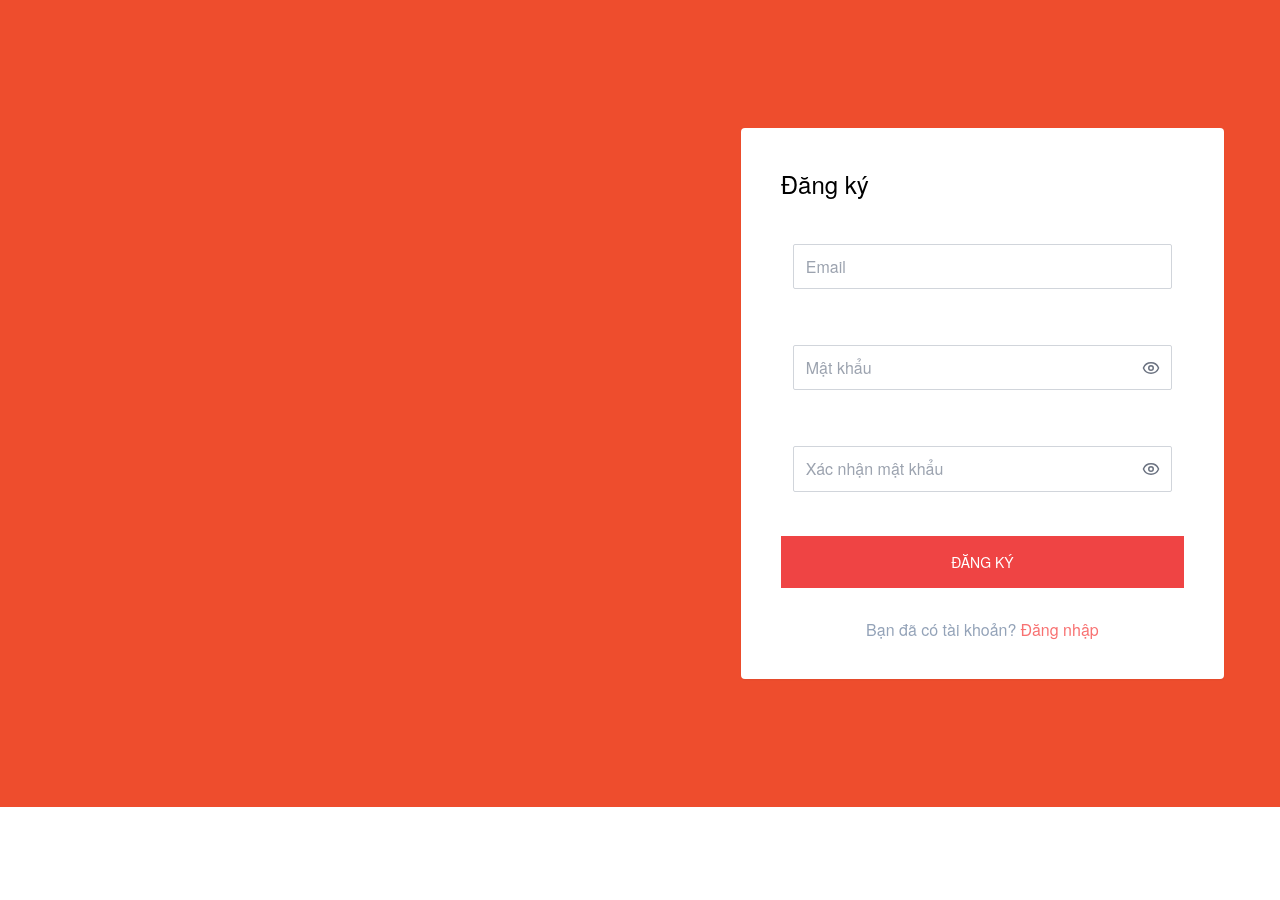
Scenario: Register page › shows error when confirm_password does not match
Step 1. Type "test@example.com" into the field with placeholder "Email" → (982, 267), box [793,244,1172,289]
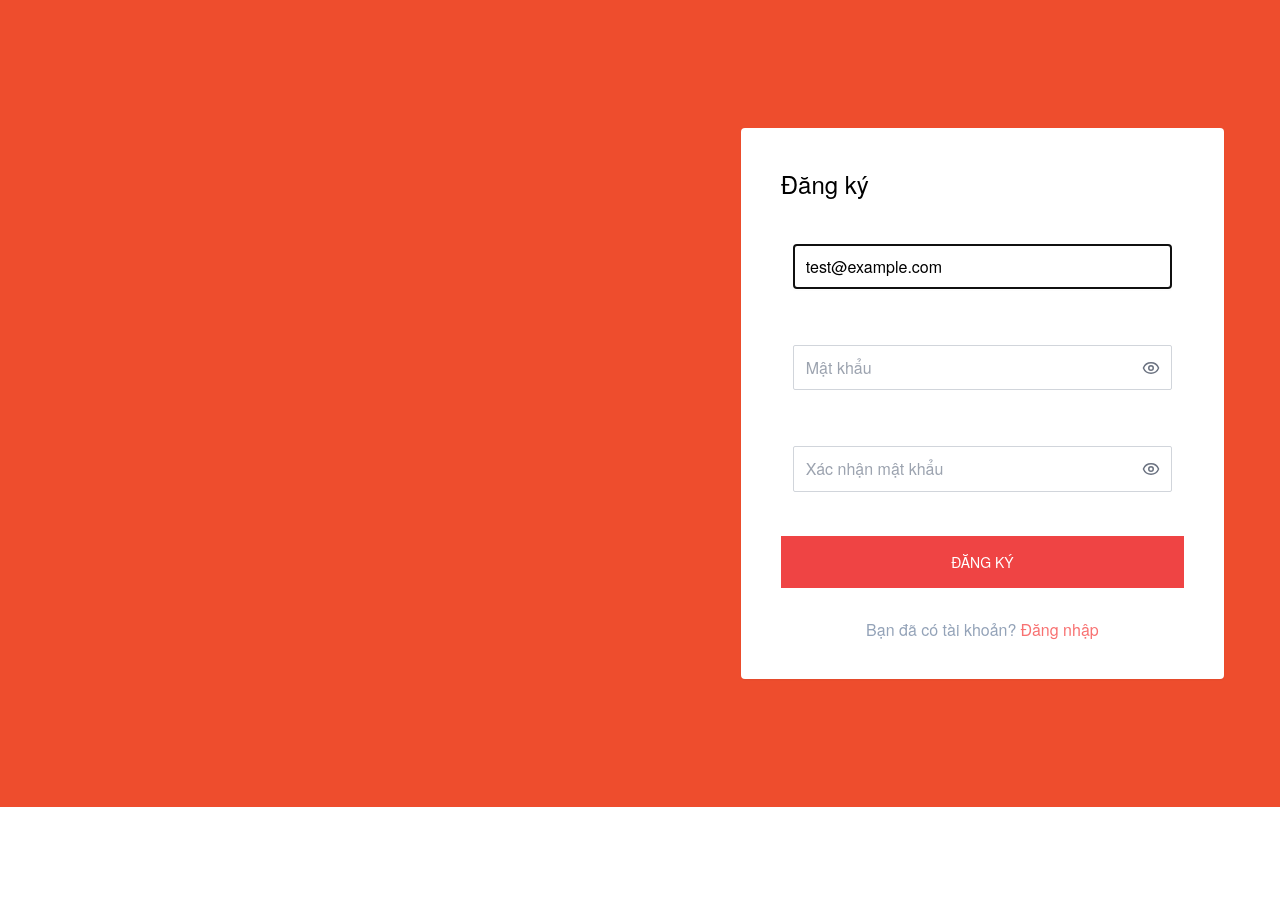
Step 2. Type "password123" into the password field with placeholder "Mật khẩu" → (982, 368), box [793,345,1172,390]
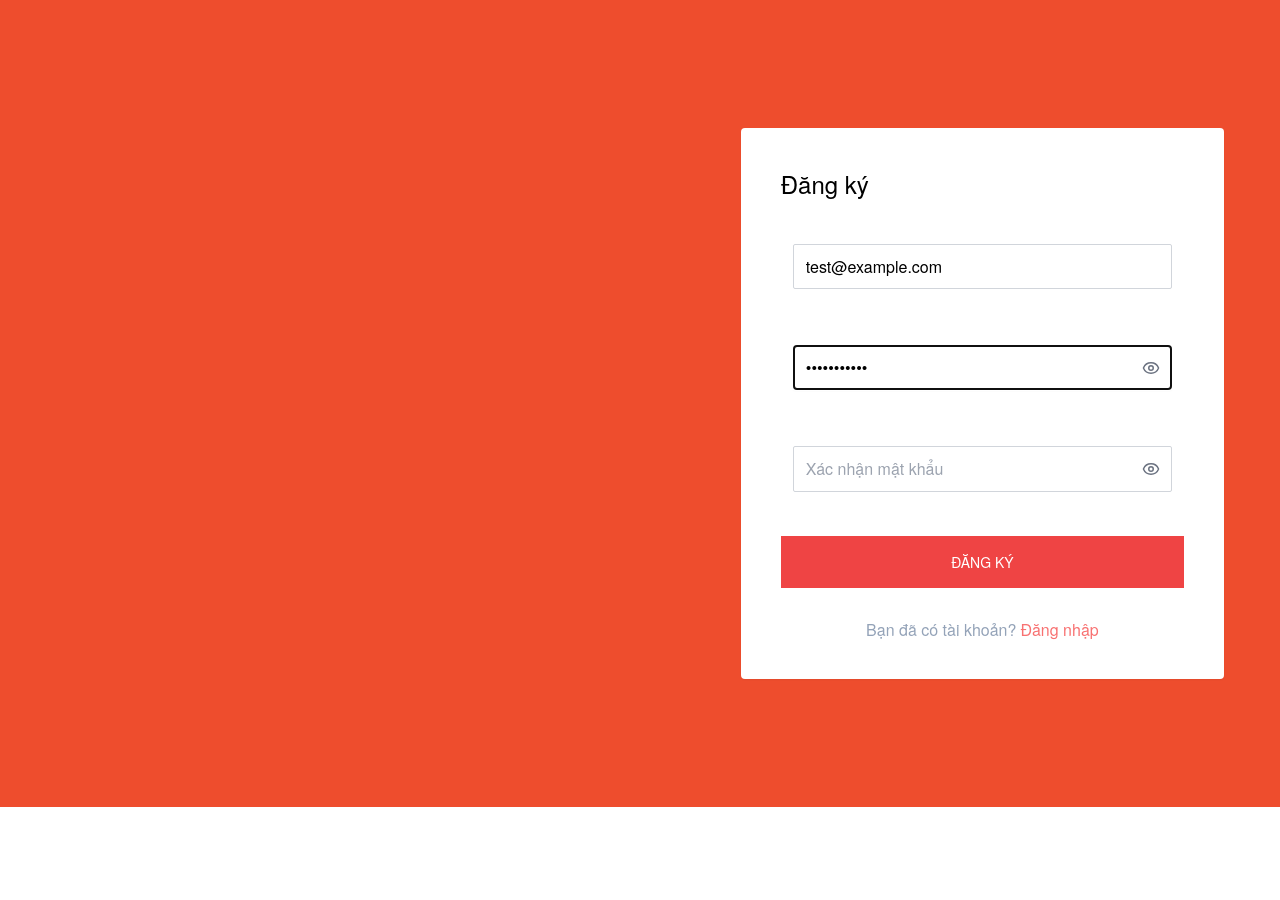
Step 3. Type "different123" into the password field with placeholder "Xác nhận mật khẩu" → (982, 469), box [793,446,1172,492]
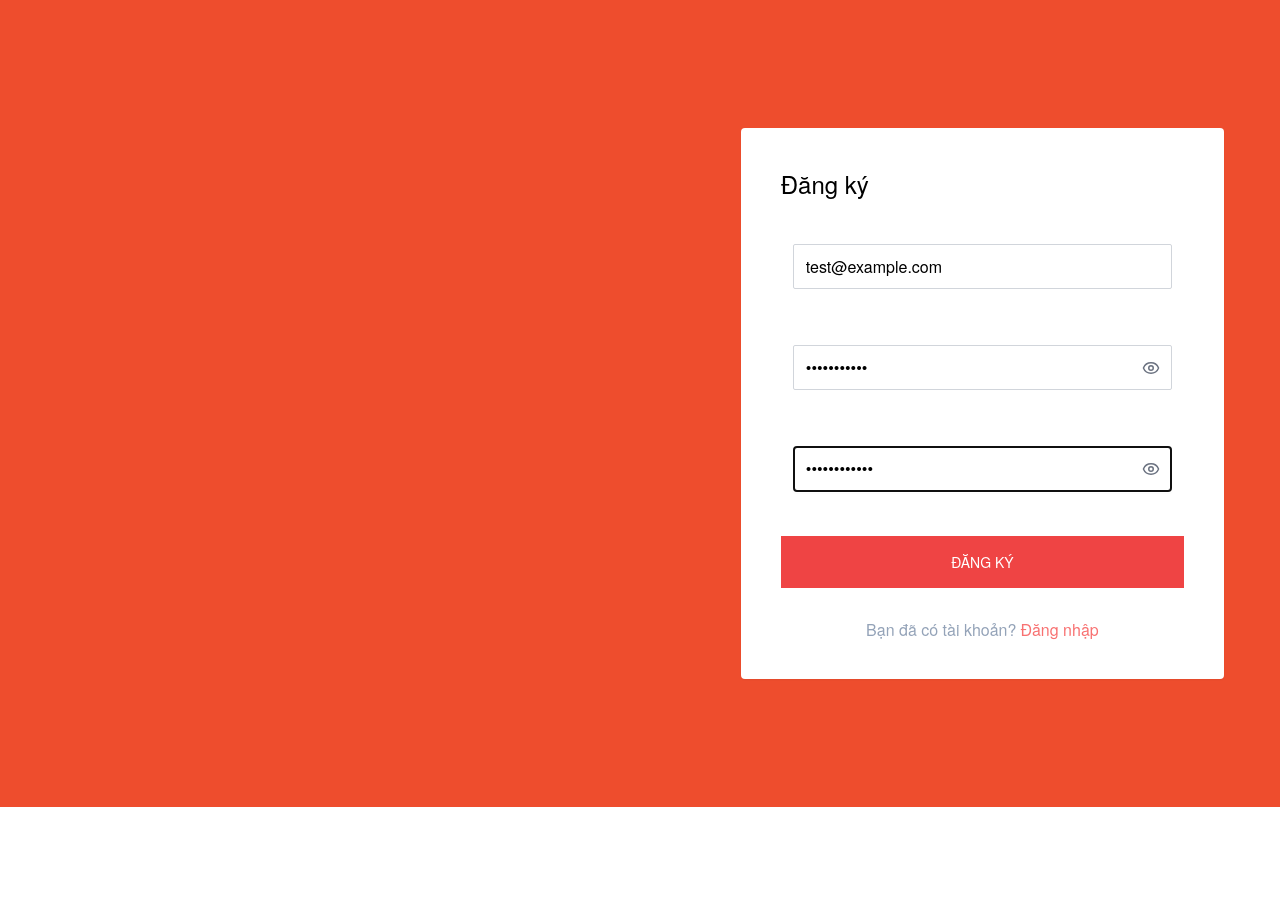
Step 4. Click the button "Đăng ký" → (982, 562), box [781,536,1184,588]
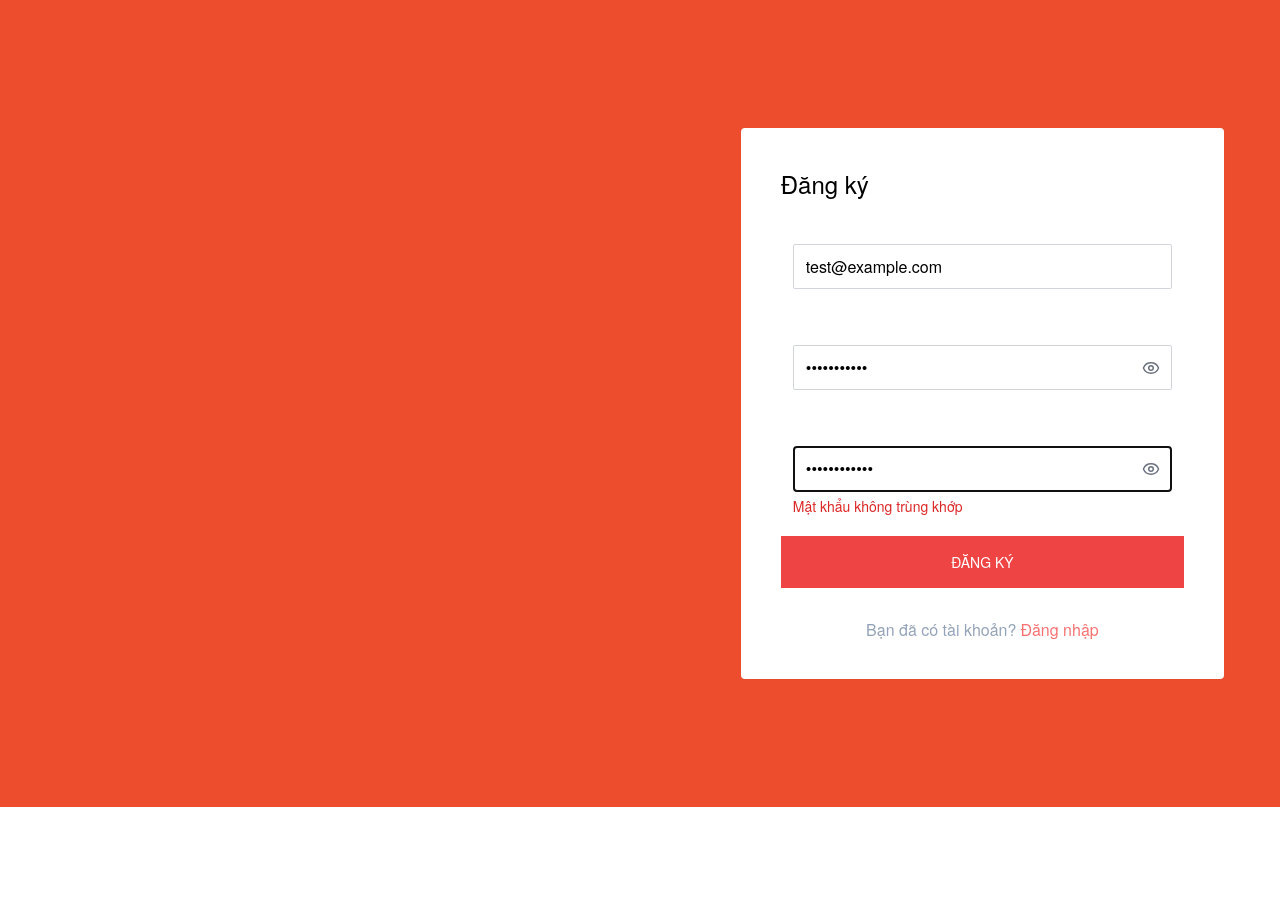
Now the text "Mật khẩu không trùng khớp" is shown, box [793,496,963,516]
